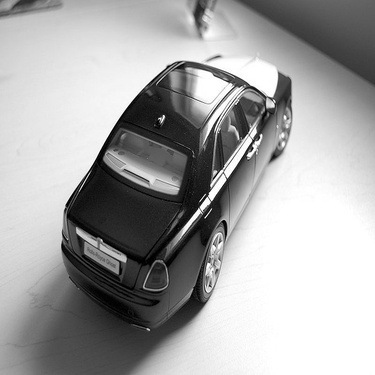car: (41, 40, 299, 334)
